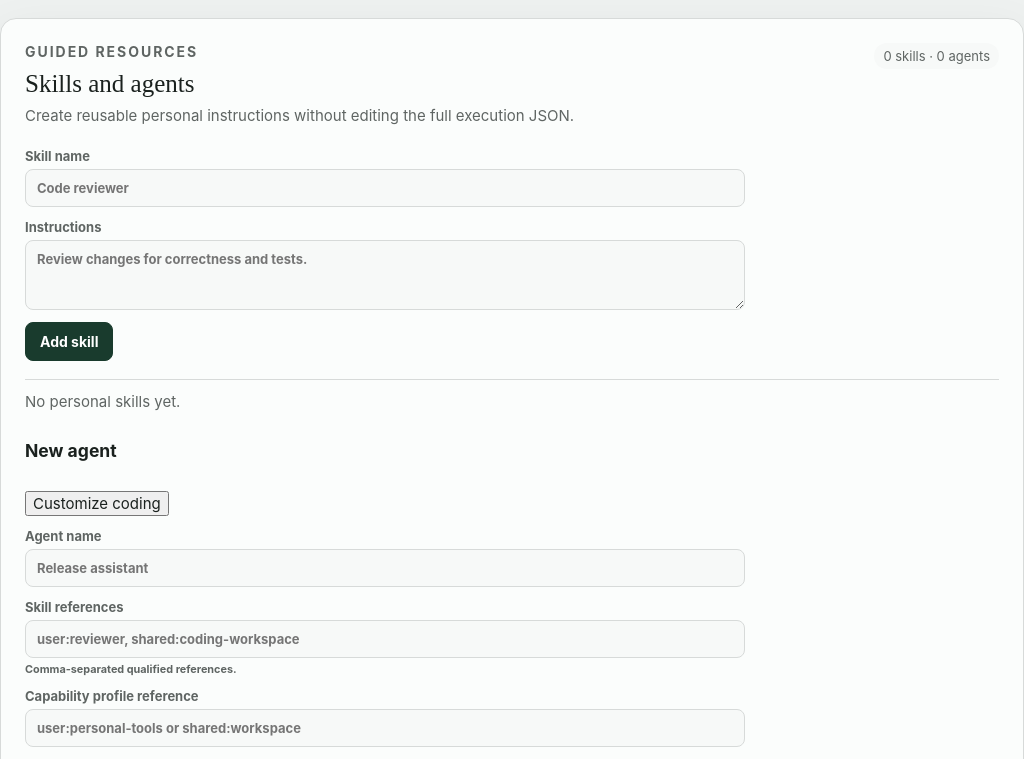
it: seeds a personal coding copy without modifying the built-in
Click the button "Customize coding". click: (97, 503)
box: x1=25 y1=491 x2=169 y2=516
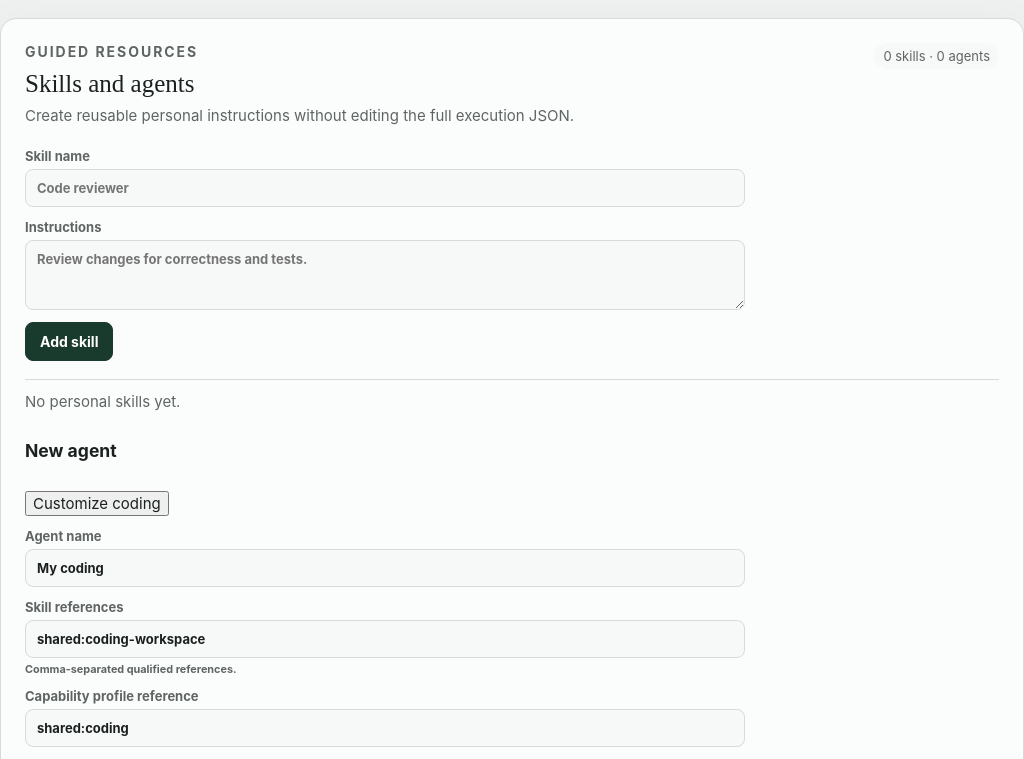
Result: the field labelled "Agent name" holds "My coding" at x1=25 y1=549 x2=745 y2=587
Result: the field labelled "Skill references Comma-separated qualified references." holds "shared:coding-workspace" at x1=25 y1=620 x2=745 y2=658
Result: the field labelled "Capability profile reference" holds "shared:coding" at x1=25 y1=709 x2=745 y2=747
